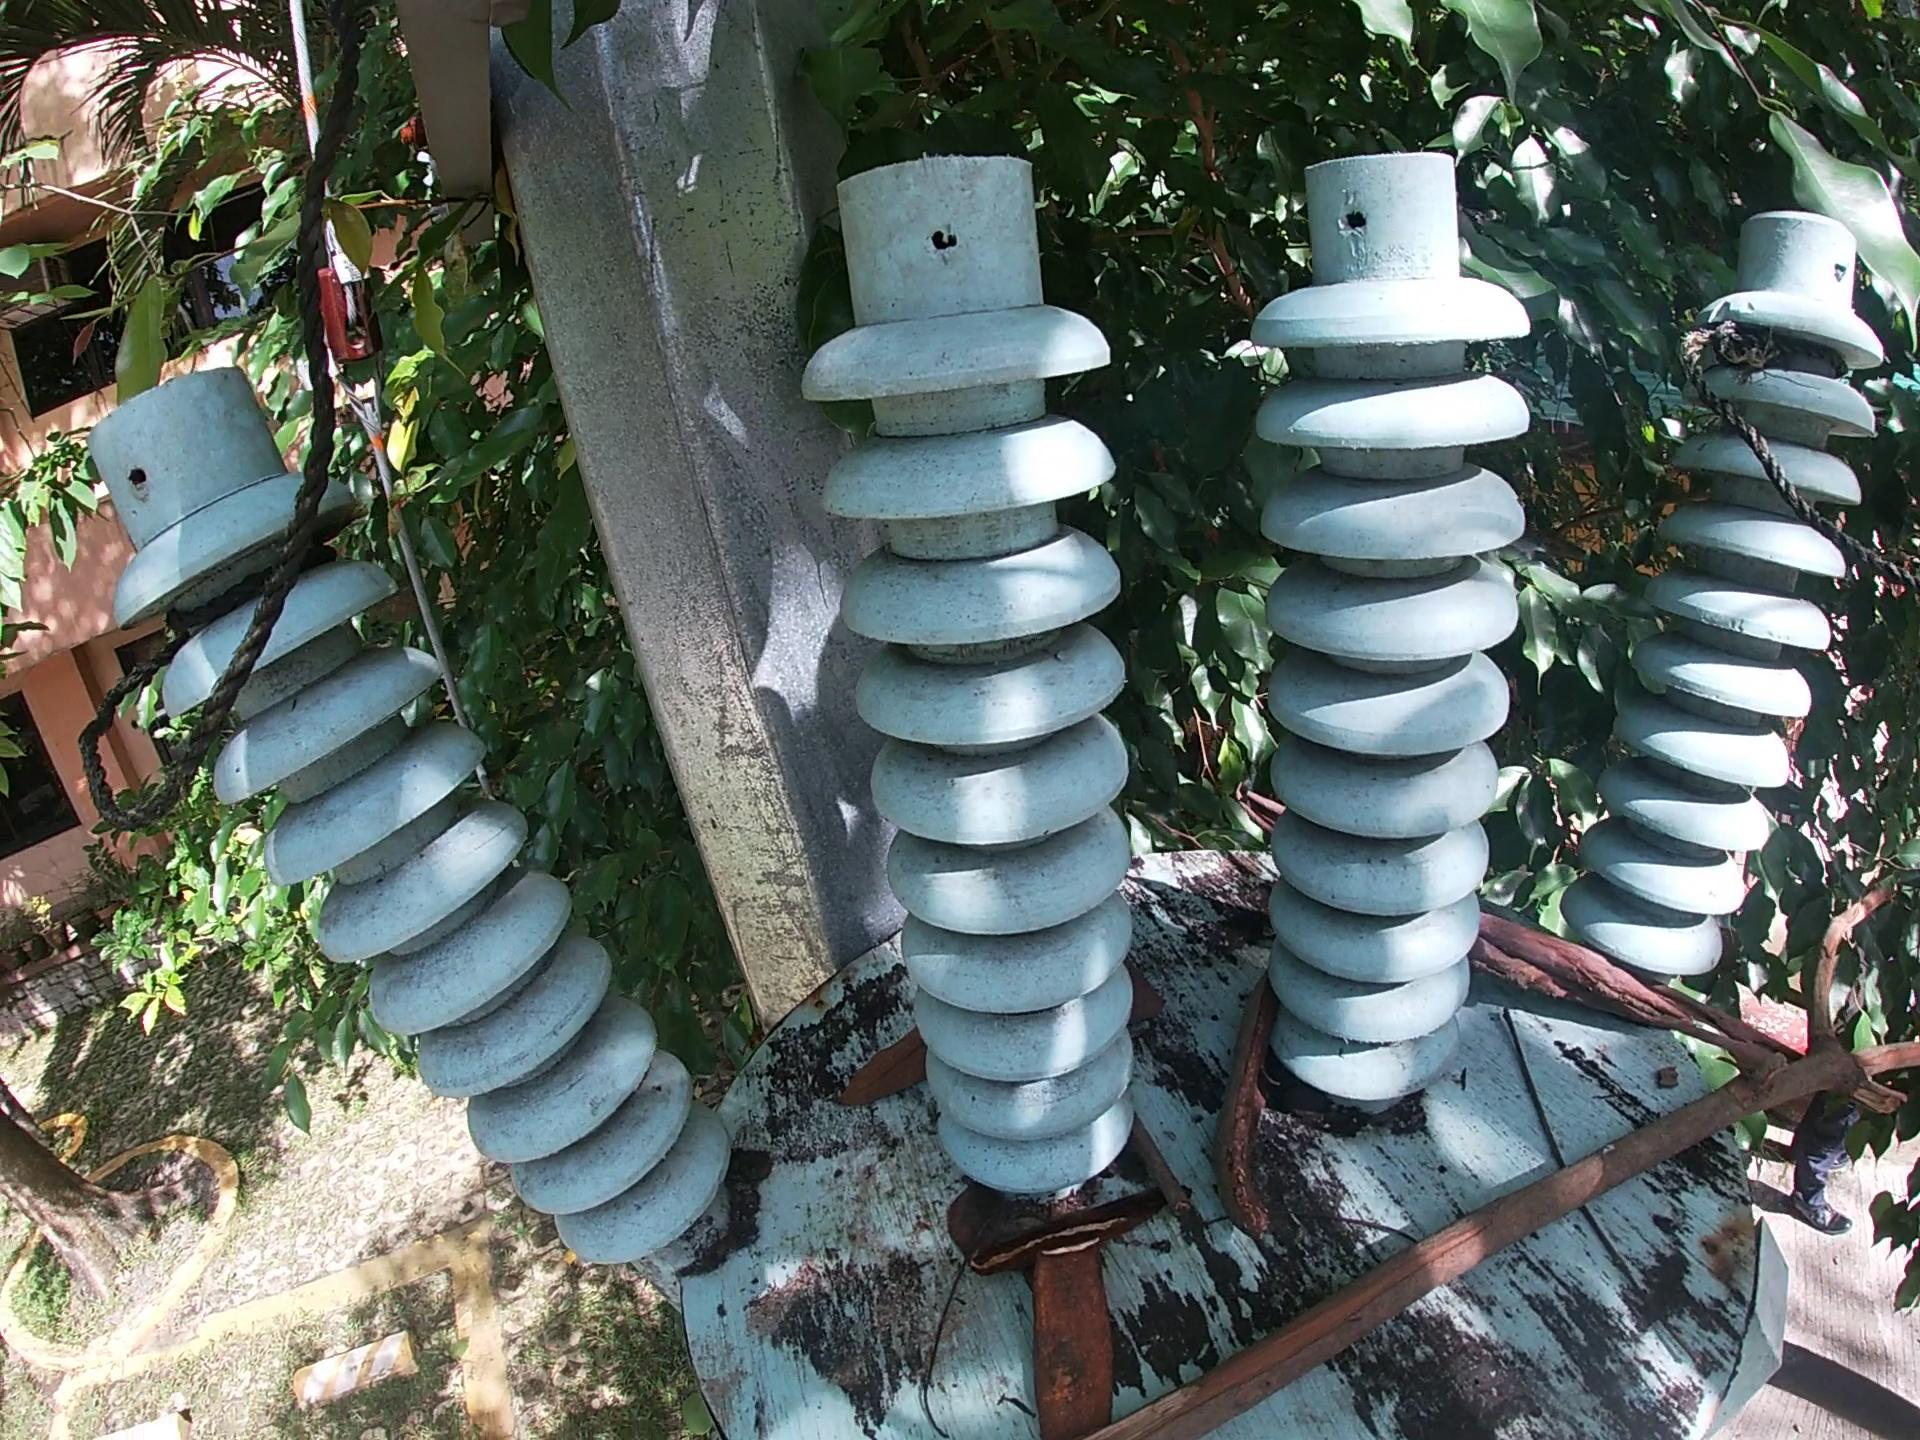leaf: (844, 1038, 904, 1156), (930, 1209, 1017, 1275)
mahogany fruit: (1220, 961, 1294, 1252), (1036, 1230, 1116, 1440)
tree branch: (1070, 874, 1920, 1435), (1497, 1009, 1720, 1370), (1471, 917, 1791, 1063), (992, 1187, 1141, 1283), (1125, 1130, 1228, 1258), (910, 1255, 977, 1435), (1241, 779, 1302, 830)
